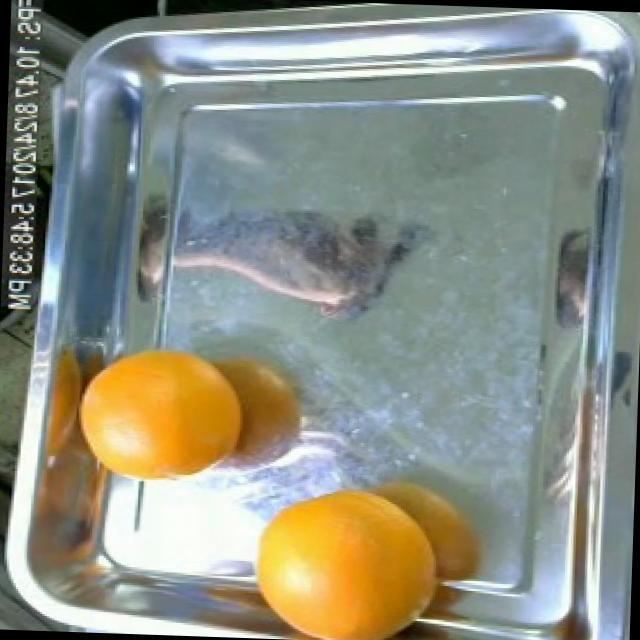Fruit: (54, 322, 280, 492)
